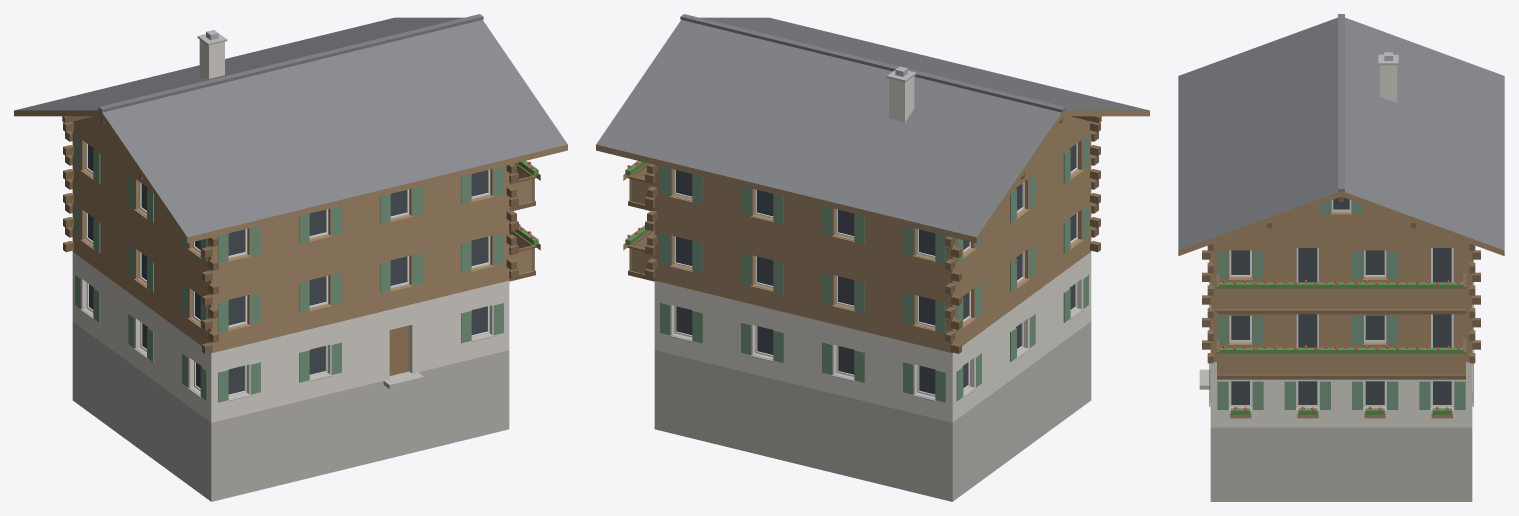
File: chalet_3_m.glb
3 renders of one model, left to right at view 1: azimuth 30°, elevation 25°; view 2: azimuth 150°, elevation 25°; view 3: azimuth 270°, elevation 25°, orthographic. The views are drawn at different scales.
Visible parts, largest first — view 1: chalet_3_m; view 2: chalet_3_m; view 3: chalet_3_m.
Part boxes in pixels (<box>): chalet_3_m: <box>14,14,567,501</box>; chalet_3_m: <box>596,14,1149,501</box>; chalet_3_m: <box>1178,14,1504,501</box>.
Size of the model in its own units: 16.64 by 15.72 by 13.1.
